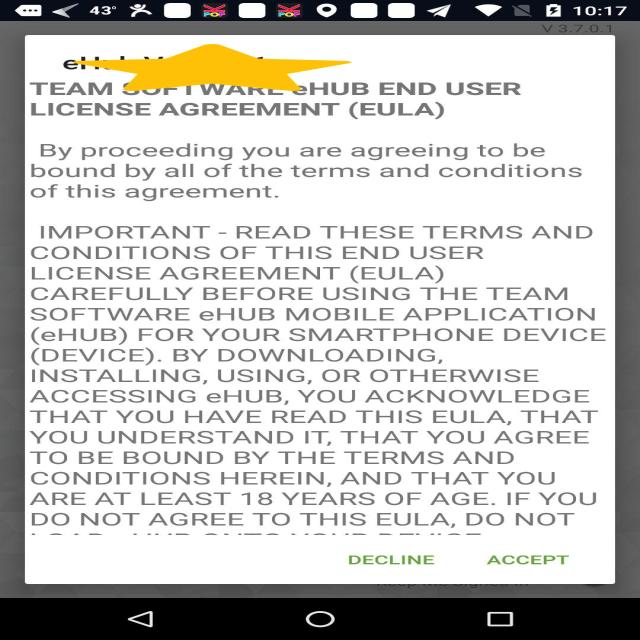forced continuity: (73, 44, 351, 91)
